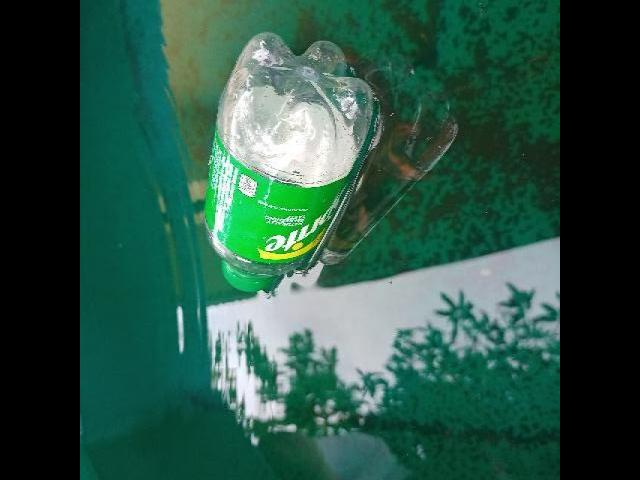Bottle: (196, 18, 384, 302)
